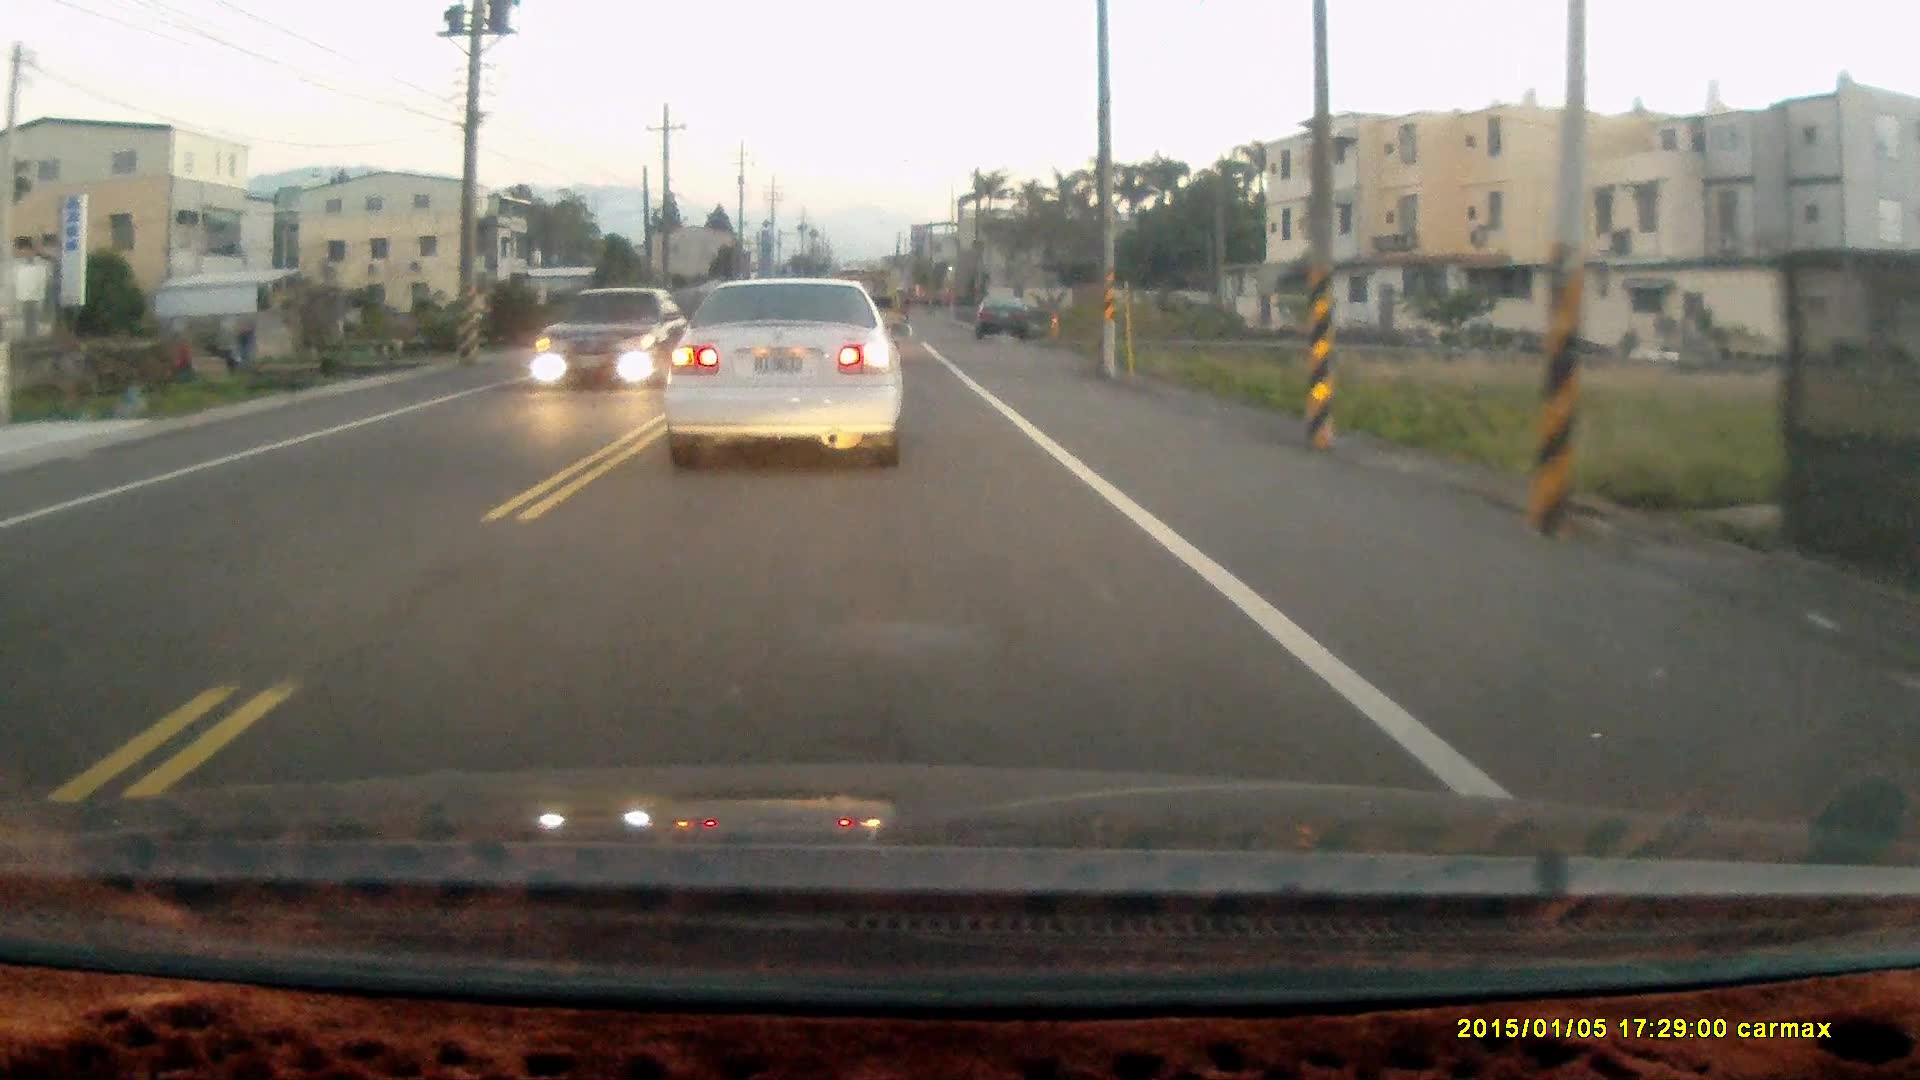pedestrian: (169, 343, 192, 389), (236, 321, 256, 370)
vehicle: (663, 276, 907, 478), (535, 290, 691, 388), (977, 296, 1042, 345)
